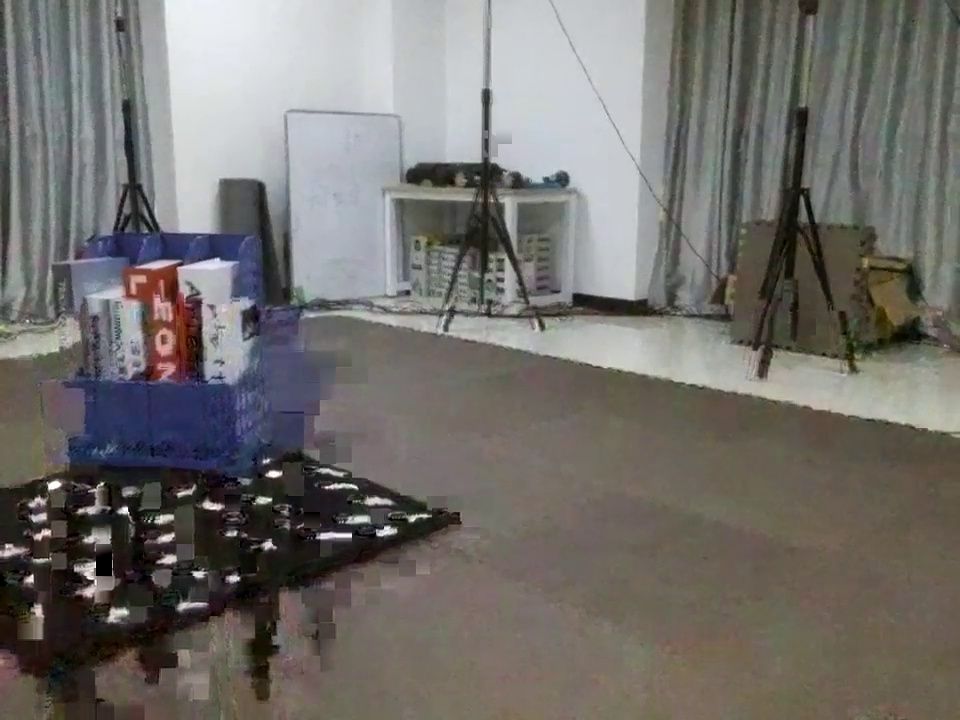files: (52, 219, 298, 486)
